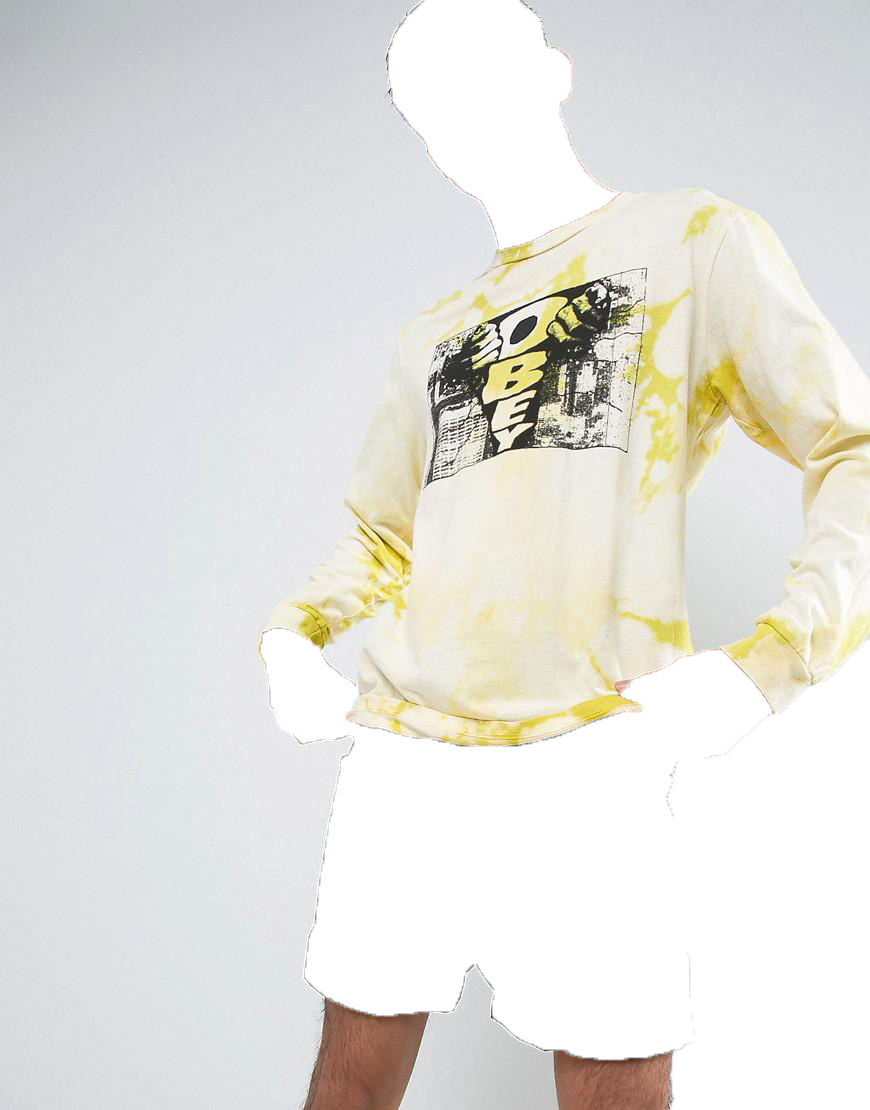teeshirt: (259, 183, 870, 750)
